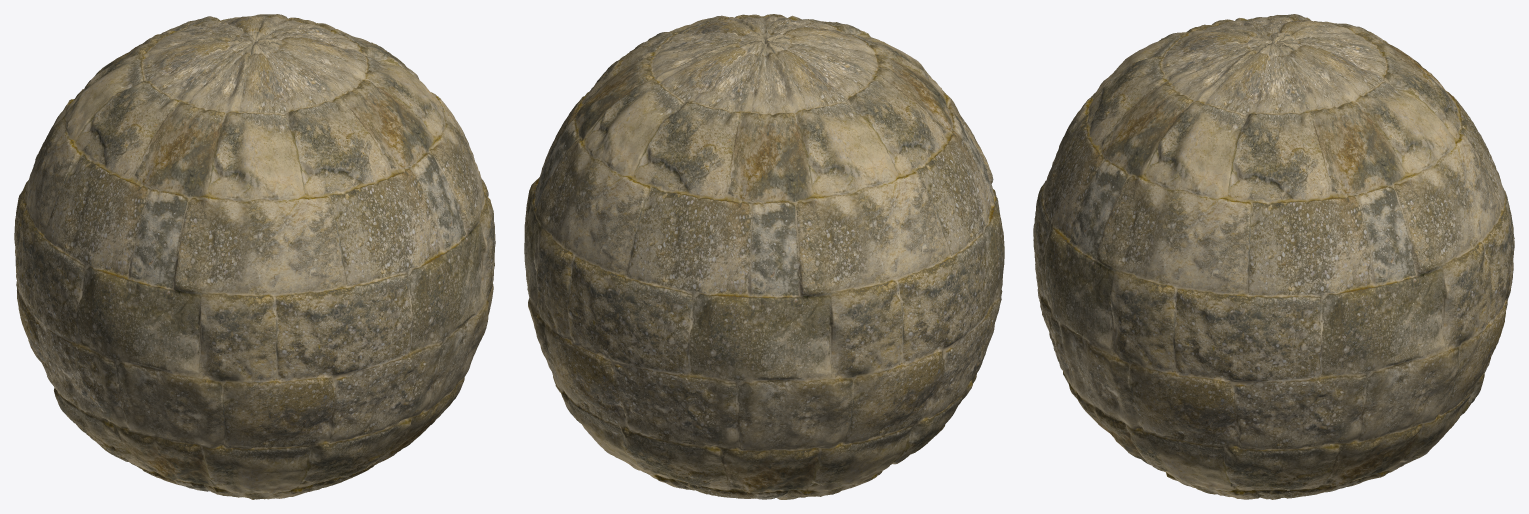
File: large_sandstone_blocks_01_2k.gltf
3 renders of one model, left to right at view 1: azimuth 30°, elevation 25°; view 2: azimuth 150°, elevation 25°; view 3: azimuth 270°, elevation 25°, orthographic.
Visible parts, largest first — view 1: sphere_gltf; view 2: sphere_gltf; view 3: sphere_gltf.
Part boxes in pixels (box(x1,y1,x2,y2)): sphere_gltf: box(14, 14, 495, 499); sphere_gltf: box(524, 14, 1004, 499); sphere_gltf: box(1033, 14, 1514, 499).
Size of the model in its own units: 3.02 by 3.02 by 3.02.
1 material, 1 textured.
